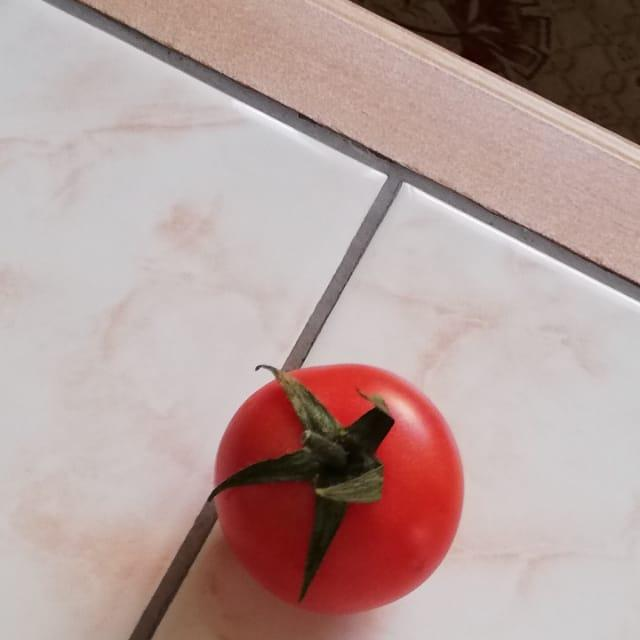tomato: (192, 339, 475, 629)
